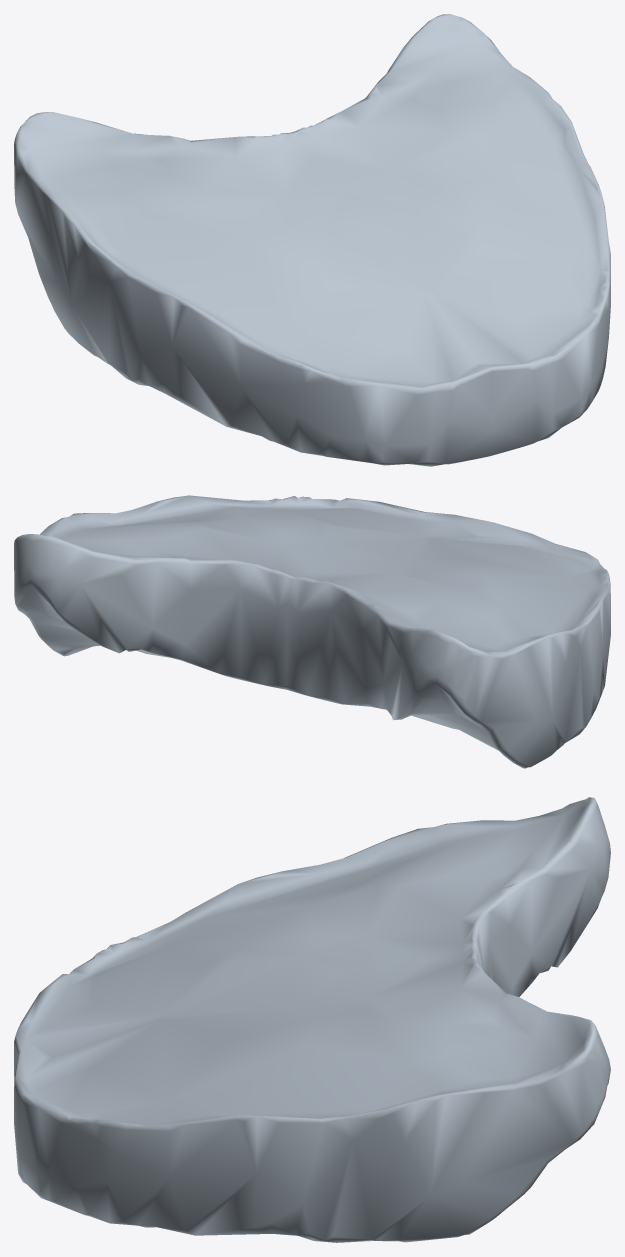
File: intervertebral-disc-t4-t5.glb
3 views of the same model, one above another, from view 1: azimuth 30°, elevation 25°; view 2: azimuth 150°, elevation 25°; view 3: azimuth 270°, elevation 25° (orthographic). The views are drawn at different scales.
Parts seen in each view (by area): view 1: Intervertebral disc T4-T5; view 2: Intervertebral disc T4-T5; view 3: Intervertebral disc T4-T5.
Part boxes in pixels (x1,y1,x2,y2): Intervertebral disc T4-T5: [14, 14, 610, 466]; Intervertebral disc T4-T5: [14, 495, 610, 768]; Intervertebral disc T4-T5: [14, 797, 610, 1242].
Size of the model in its own units: 0.0321 by 0.0133 by 0.0297.
